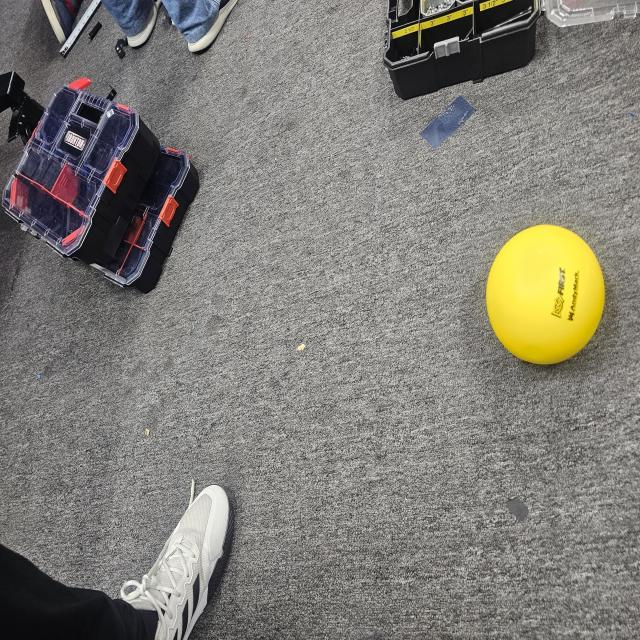Fuel: (482, 217, 612, 372)
